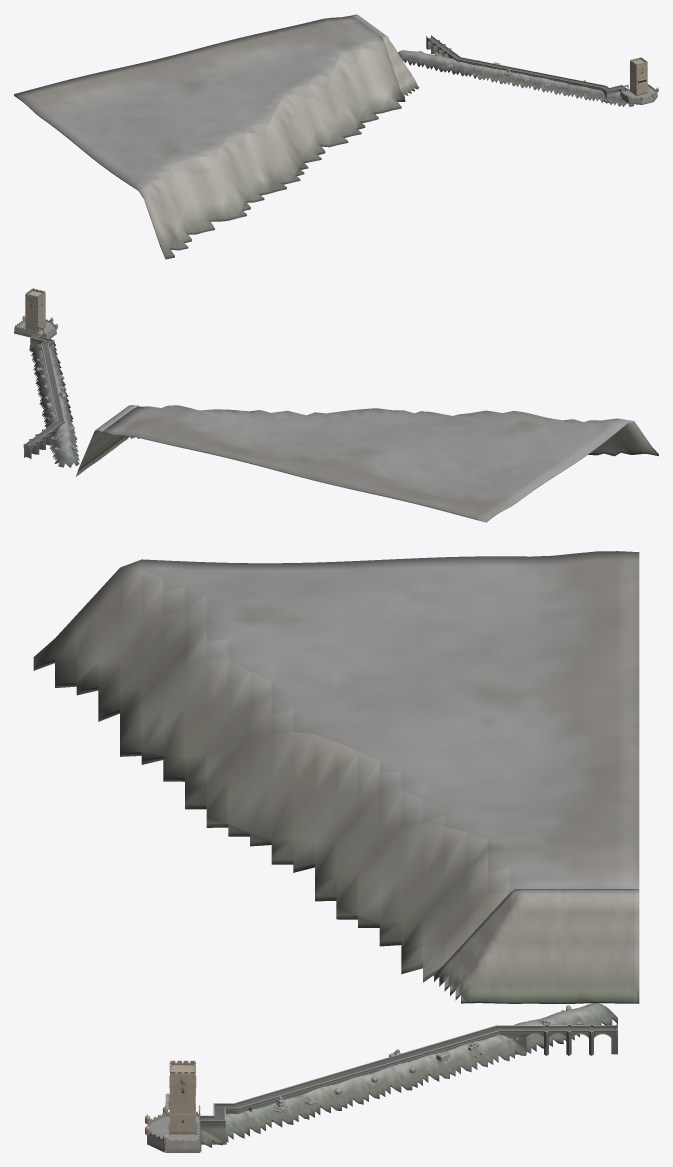
Rendered from fort.glb.
3 views of the same model, one above another, from view 1: azimuth 30°, elevation 25°; view 2: azimuth 150°, elevation 25°; view 3: azimuth 270°, elevation 25° (orthographic). The views are drawn at different scales.
Parts seen in each view (by area): view 1: west_land, west_spit, spit_causeway, fort_tower.001, fort_bastion.001; view 2: west_land, west_spit, spit_causeway, fort_tower.001, fort_bastion.001; view 3: west_land, west_spit, spit_causeway, fort_tower.001, fort_bastion.001.
Boxes of the visible parts, box(x1,y1,x2,y2) form: west_land: box(14, 15, 405, 259); west_spit: box(351, 14, 633, 106); spit_causeway: box(426, 36, 627, 103); fort_tower.001: box(629, 57, 647, 95); fort_bastion.001: box(620, 84, 657, 104); west_land: box(102, 405, 658, 522); west_spit: box(29, 337, 139, 476); spit_causeway: box(24, 332, 64, 459); fort_tower.001: box(25, 288, 45, 331); fort_bastion.001: box(14, 319, 56, 338); west_land: box(33, 551, 639, 982); west_spit: box(201, 889, 639, 1147); spit_causeway: box(200, 1023, 617, 1144); fort_tower.001: box(165, 1060, 196, 1134); fort_bastion.001: box(147, 1105, 201, 1152).
Bounding box in the file's own units: 562 × 57.11 × 280.
